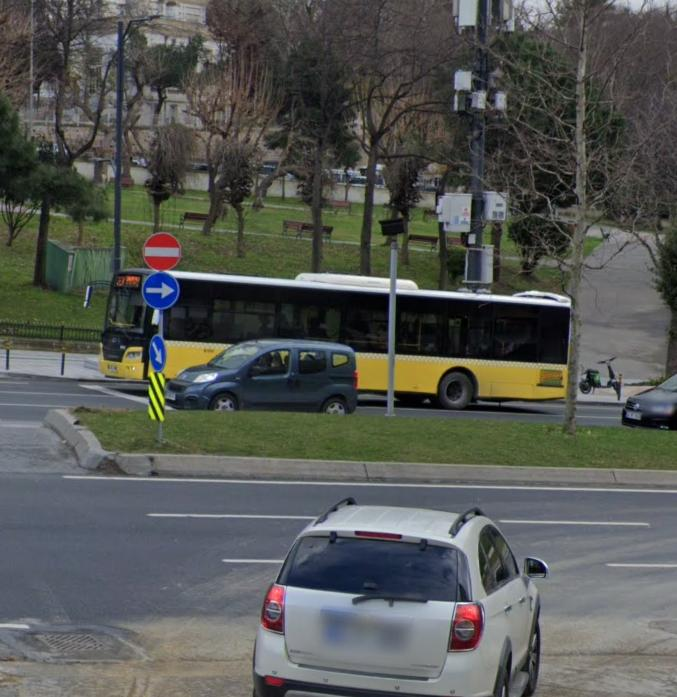turnright: (144, 273, 179, 310)
